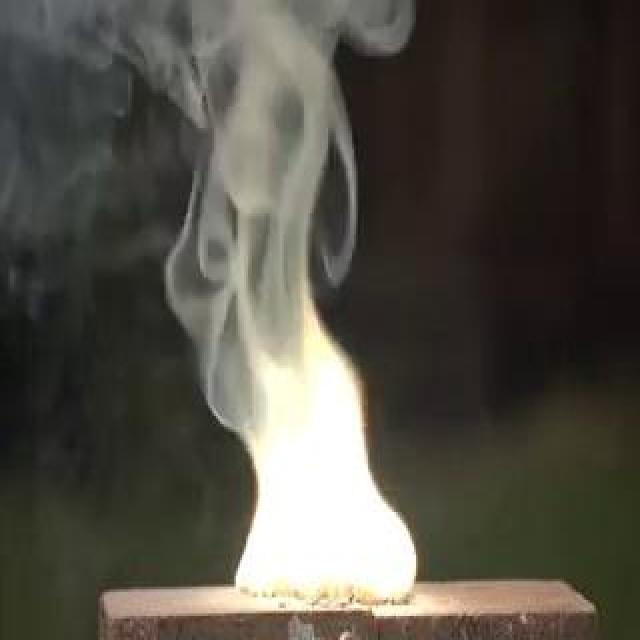Fire: (196, 350, 324, 434)
